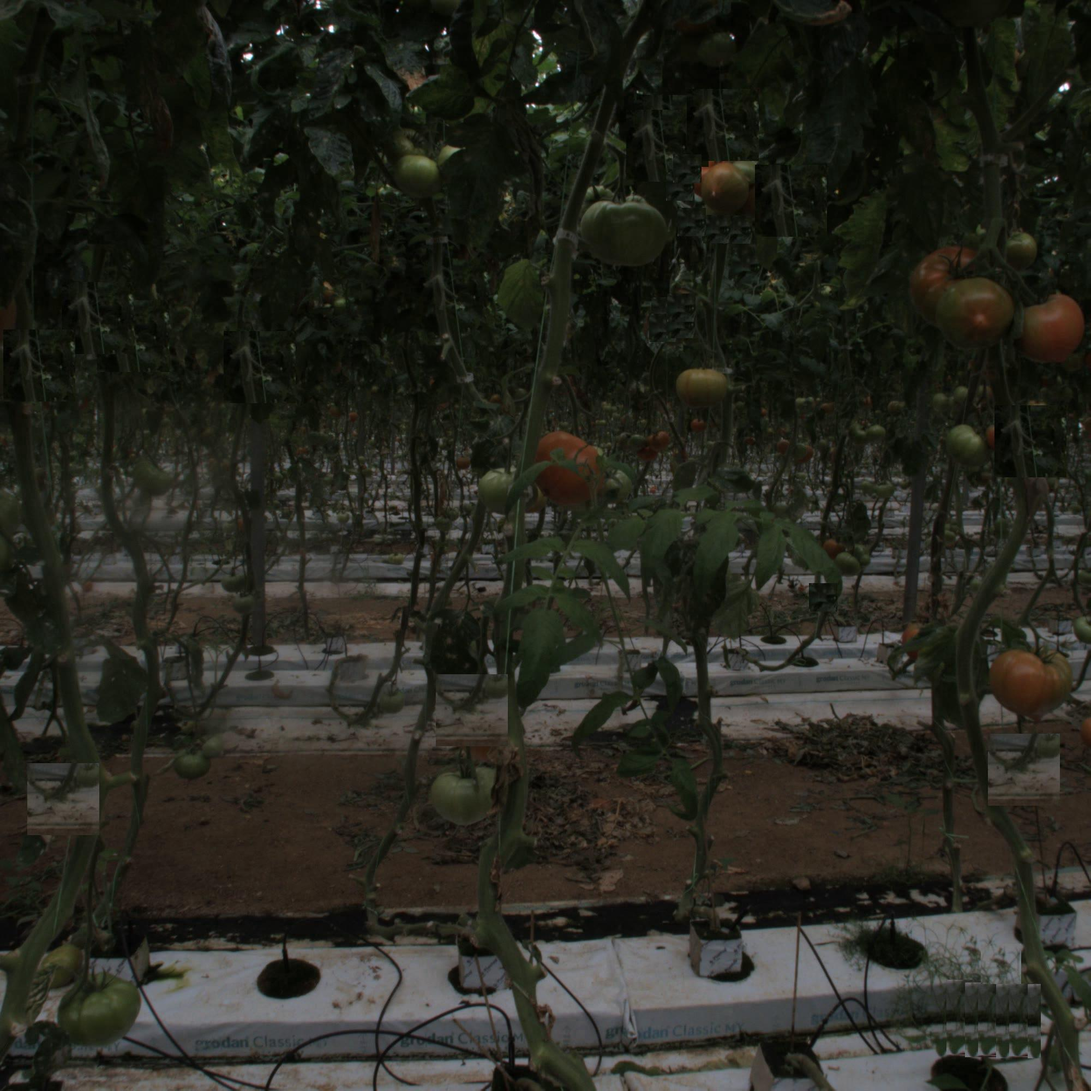fully-ripe: (530, 435, 607, 512)
semi-ripe: (903, 246, 991, 333), (937, 278, 1011, 352), (994, 642, 1068, 716), (1018, 296, 1083, 361), (673, 360, 728, 415), (699, 161, 753, 216)
unripe: (586, 196, 660, 271), (63, 972, 137, 1046), (434, 762, 499, 826), (944, 426, 989, 471), (476, 463, 521, 508), (395, 155, 440, 200), (998, 231, 1040, 274), (171, 746, 211, 785)
